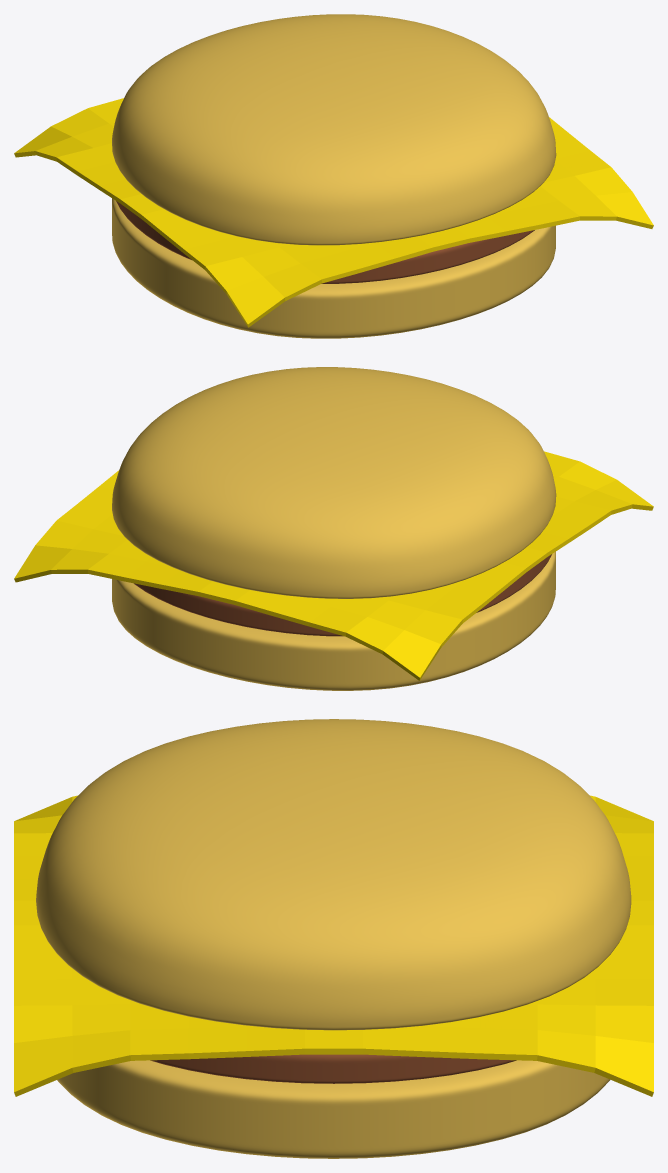
The model's file is burger.glb.
The picture shows the model from 3 angles, top to bottom: view 1: azimuth 30°, elevation 25°; view 2: azimuth 150°, elevation 25°; view 3: azimuth 270°, elevation 25°; orthographic projection. The views are drawn at different scales.
Parts seen in each view (by area): view 1: Cube.002, Plane, Cube, Cube.001; view 2: Cube.002, Plane, Cube, Cube.001; view 3: Cube.002, Plane, Cube, Cube.001.
Boxes of the visible parts, bbox=[...] form: Cube.002: bbox=[112, 14, 556, 245]; Plane: bbox=[14, 98, 653, 327]; Cube: bbox=[112, 198, 555, 338]; Cube.001: bbox=[116, 201, 534, 283]; Cube.002: bbox=[112, 367, 556, 598]; Plane: bbox=[14, 451, 653, 680]; Cube: bbox=[112, 551, 555, 690]; Cube.001: bbox=[134, 554, 551, 636]; Cube.002: bbox=[36, 719, 631, 1030]; Plane: bbox=[14, 795, 653, 1096]; Cube: bbox=[57, 1060, 609, 1158]; Cube.001: bbox=[150, 1054, 516, 1083].
Bounding box in the file's own units: 9.85 × 4.31 × 9.83.
